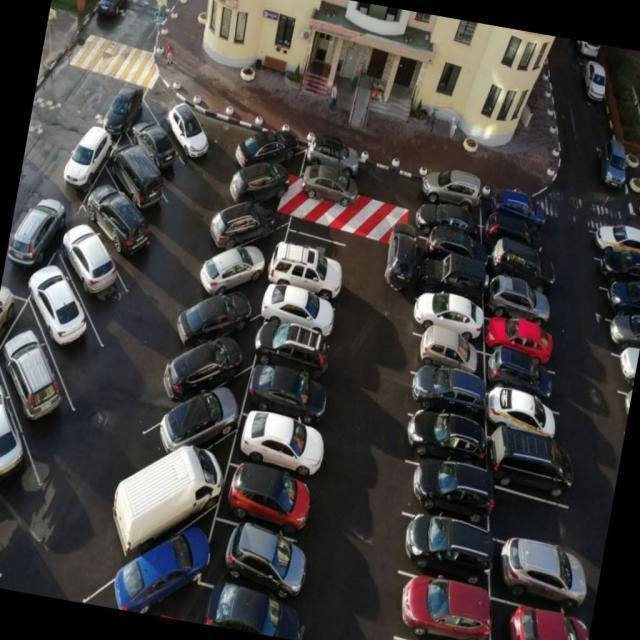space-empty: (488, 493, 576, 546), (279, 226, 349, 265)
space-occupied: (103, 429, 233, 554), (0, 322, 76, 472), (96, 521, 205, 621), (149, 368, 247, 469), (26, 273, 108, 389), (156, 320, 251, 415), (61, 218, 139, 326), (0, 374, 52, 534), (81, 174, 154, 283), (386, 573, 495, 639), (208, 520, 305, 594), (174, 274, 261, 356), (394, 513, 492, 584), (491, 538, 591, 606), (221, 464, 319, 532), (401, 461, 496, 531), (232, 409, 327, 476), (197, 583, 305, 639), (242, 364, 331, 427), (402, 409, 489, 472), (105, 140, 171, 221), (199, 234, 275, 301), (2, 213, 63, 294), (254, 317, 338, 375), (152, 85, 217, 156), (260, 280, 339, 335), (56, 124, 110, 203), (407, 367, 487, 420), (209, 199, 279, 259), (493, 437, 564, 495), (491, 601, 591, 640), (416, 294, 491, 345), (126, 115, 190, 174), (482, 393, 560, 441), (407, 333, 490, 378), (271, 244, 351, 290), (230, 158, 295, 213), (484, 353, 557, 401), (233, 127, 303, 177), (423, 259, 493, 307), (486, 314, 556, 362), (420, 230, 485, 274), (420, 202, 488, 242), (424, 174, 488, 213), (488, 278, 551, 316), (485, 219, 547, 257), (488, 248, 549, 286), (490, 186, 547, 226), (589, 223, 640, 263), (595, 254, 640, 296), (0, 292, 19, 388), (604, 278, 640, 324), (609, 308, 640, 355)
